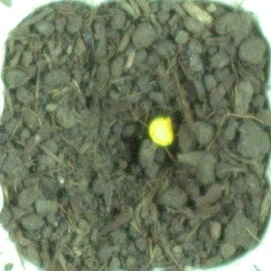pepper seed: (60, 42, 236, 190)
